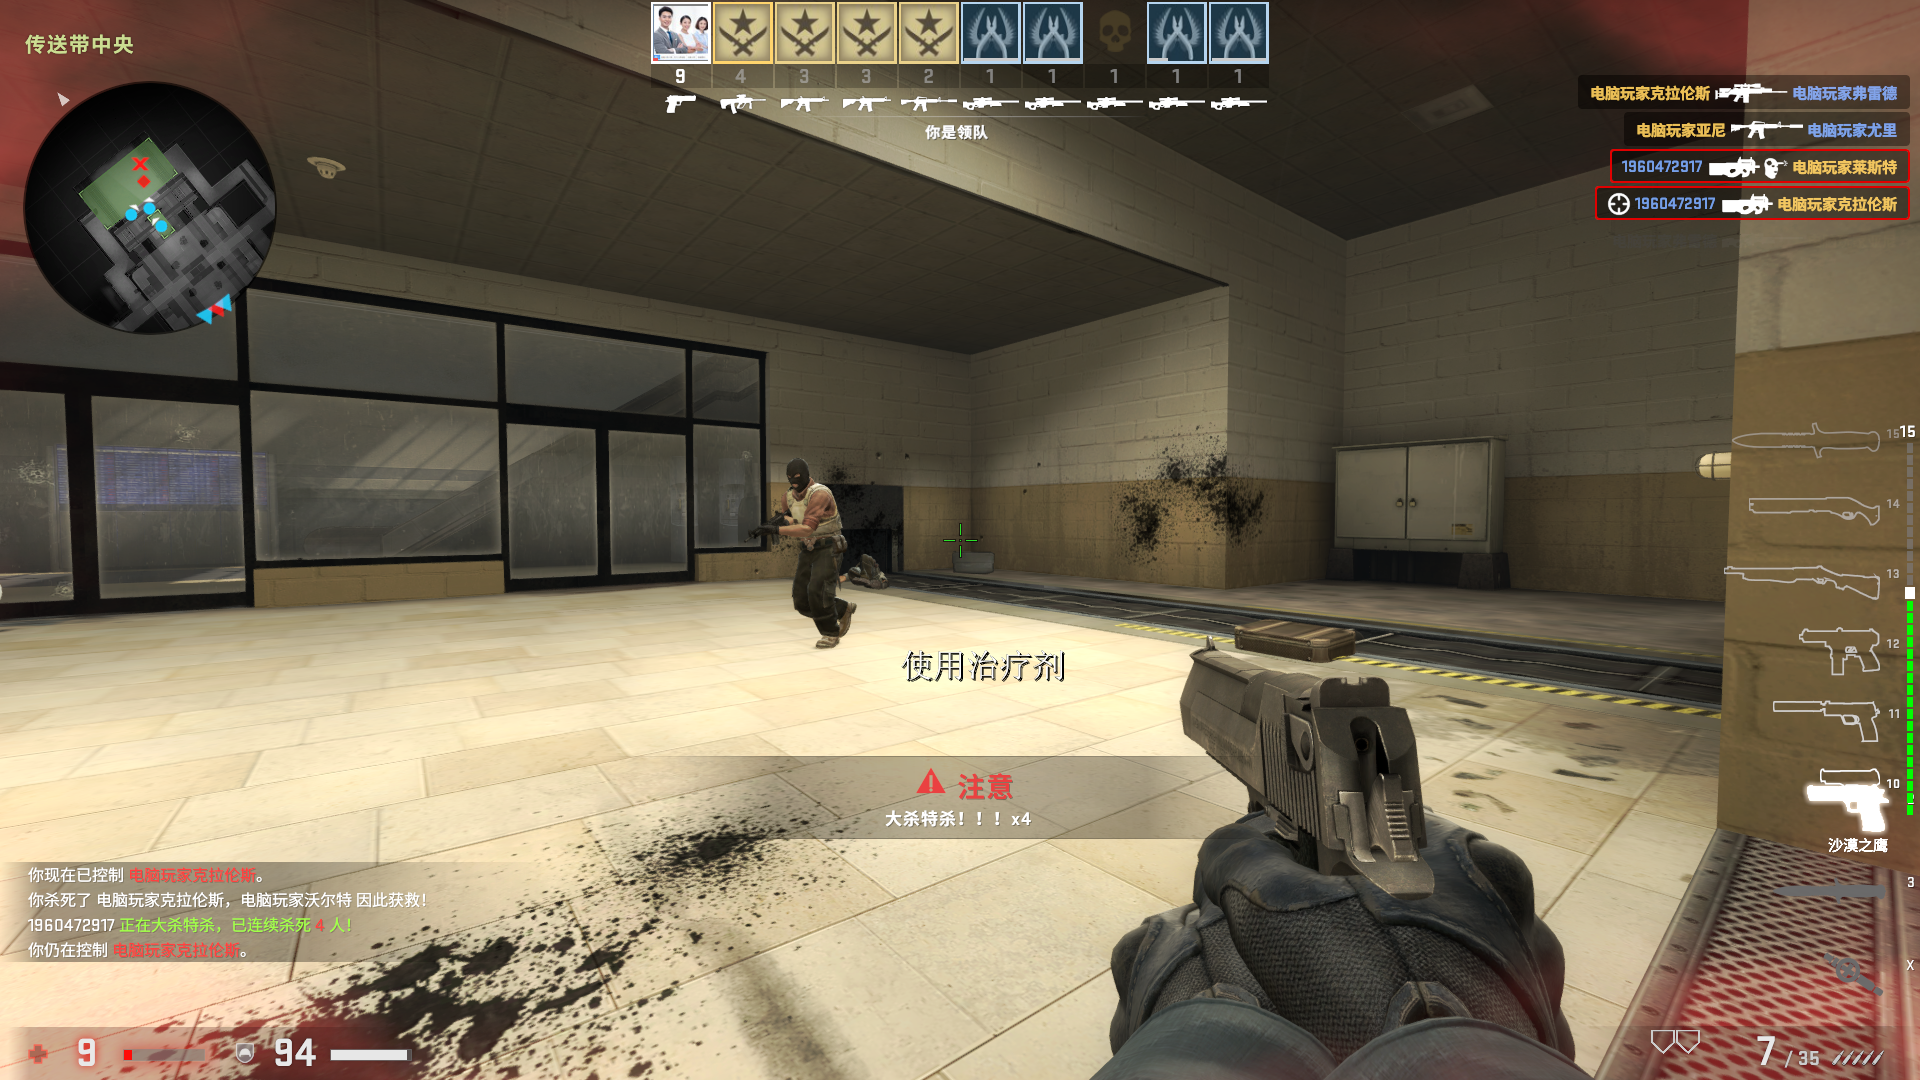person: (761, 456, 857, 650)
